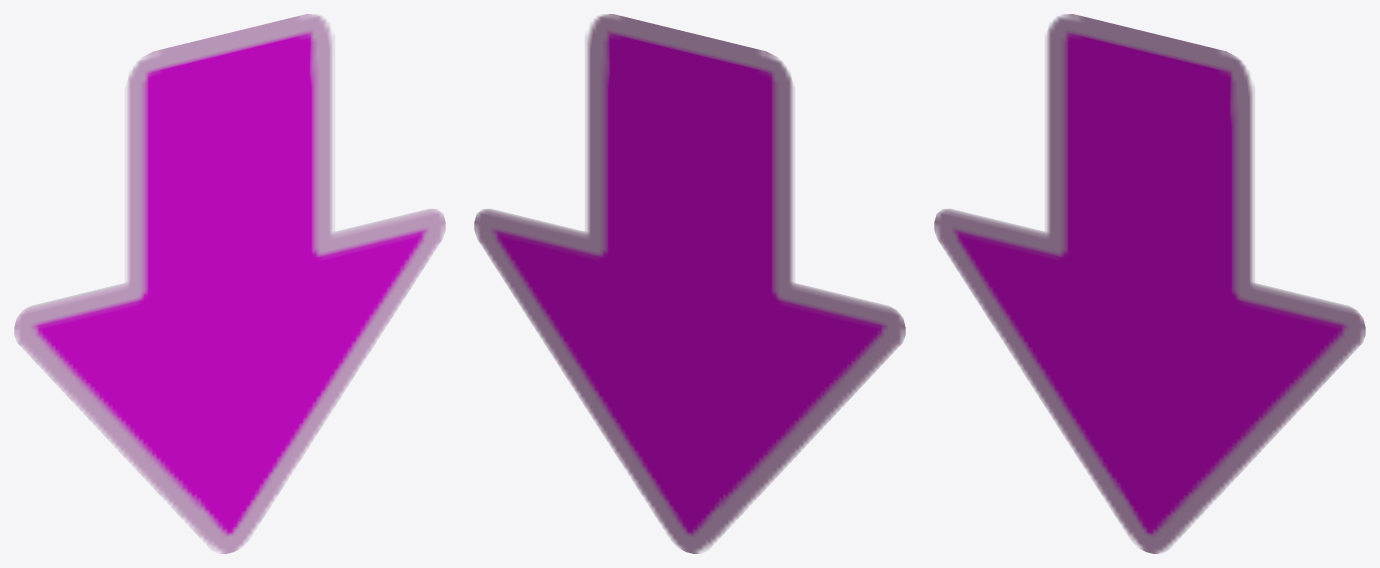
The model's file is Guide_Arrow.glb.
3 views of the same model, side by side, from view 1: azimuth 30°, elevation 25°; view 2: azimuth 150°, elevation 25°; view 3: azimuth 330°, elevation 25° (orthographic).
Visible parts, largest first — view 1: Guide_Arrow; view 2: Guide_Arrow; view 3: Guide_Arrow.
Part boxes in pixels (x1,y1,x2,y2): Guide_Arrow: (14, 14, 445, 553); Guide_Arrow: (474, 14, 905, 553); Guide_Arrow: (934, 14, 1365, 553).
Size of the model in its own units: 0.8673 by 1 by 2.22e-16.
Materials: 1 (1 with a texture image).
